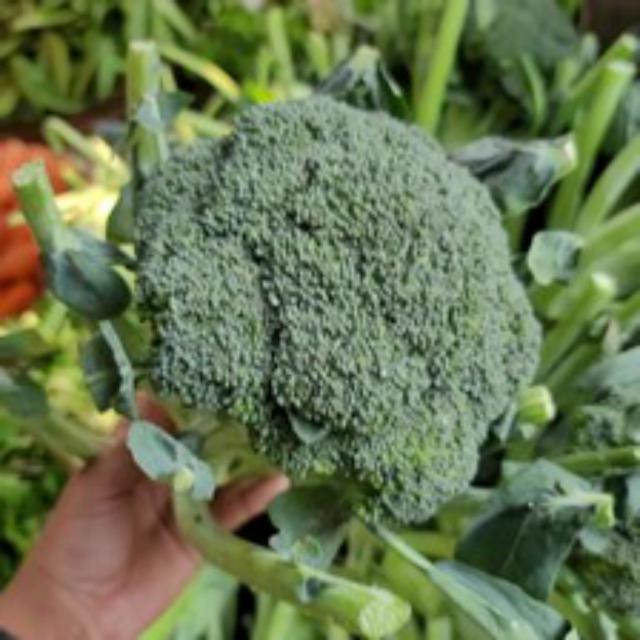broccoli: (107, 74, 551, 516)
